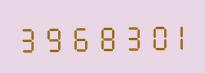eight: (89, 20, 112, 52)
nine: (41, 21, 64, 53)
one: (161, 18, 184, 51)
six: (65, 20, 88, 53)
three: (17, 21, 40, 54), (113, 19, 136, 52)
zero: (137, 19, 160, 51)
